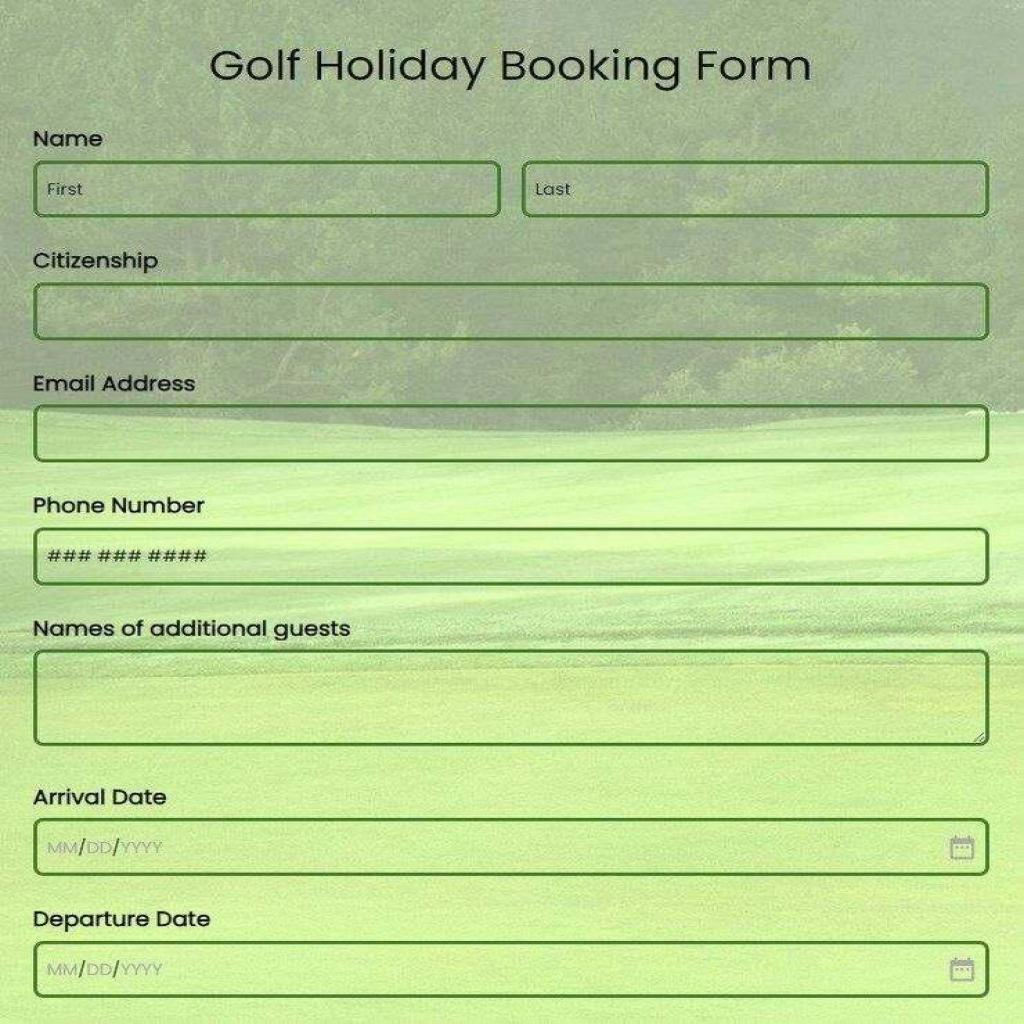input: (35, 651, 988, 745), (34, 404, 990, 461), (34, 528, 990, 584), (38, 942, 990, 997), (33, 284, 987, 337), (35, 820, 985, 872), (524, 160, 988, 218), (35, 160, 498, 215)
label: (20, 611, 358, 639), (29, 490, 215, 519), (15, 909, 223, 931), (20, 372, 204, 395), (25, 248, 165, 273), (21, 784, 177, 805), (28, 126, 109, 152)
